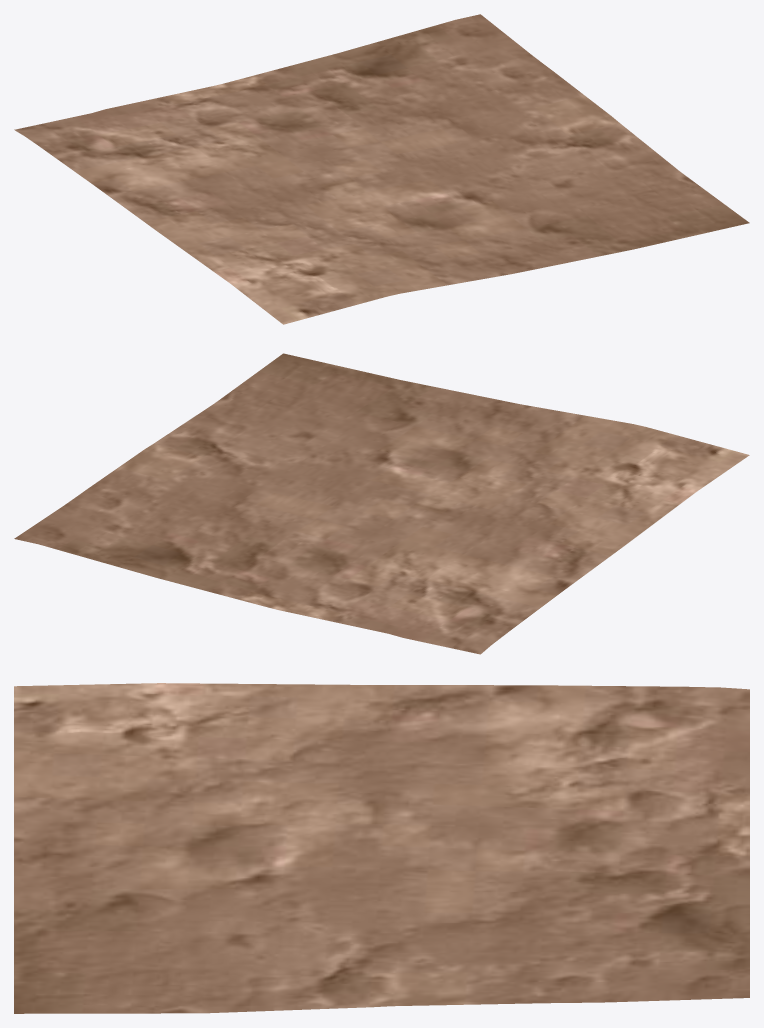
3 views of the same model, one above another, from view 1: azimuth 30°, elevation 25°; view 2: azimuth 150°, elevation 25°; view 3: azimuth 270°, elevation 25° (orthographic). The views are drawn at different scales.
Size of the model in its own units: 256 by 7.85 by 256.
Materials: 1 (1 with a texture image).
